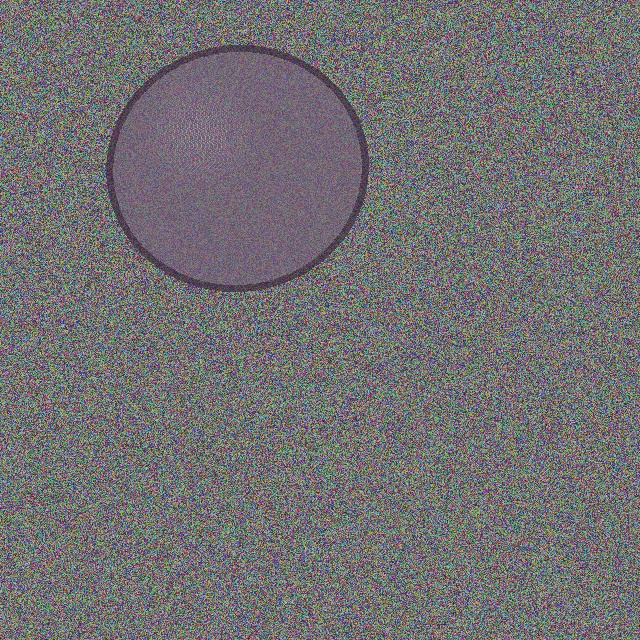lens: (110, 49, 364, 287)
